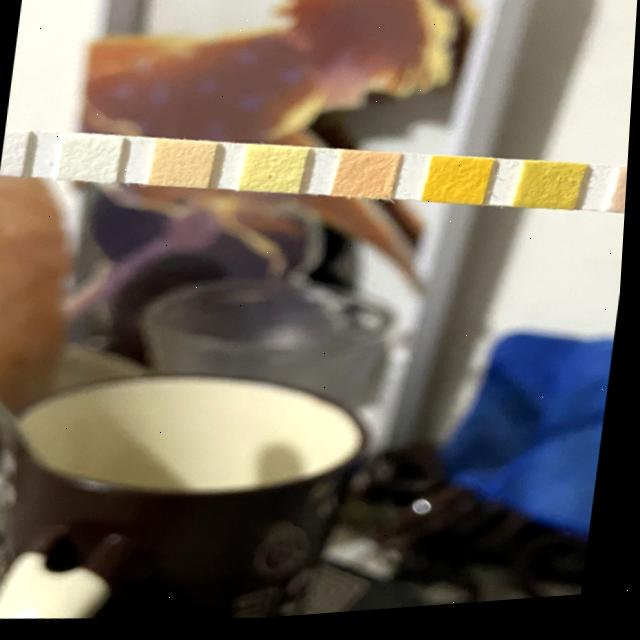Blood: (429, 165, 488, 210)
Ketone: (618, 181, 630, 221)
Leukocytes: (1, 132, 25, 172)
Nitrite: (62, 137, 118, 182)
Protein: (247, 151, 302, 195)
SpGravity: (521, 171, 580, 218)
Urobilinogen: (156, 143, 211, 188)
pH: (339, 157, 397, 203)
